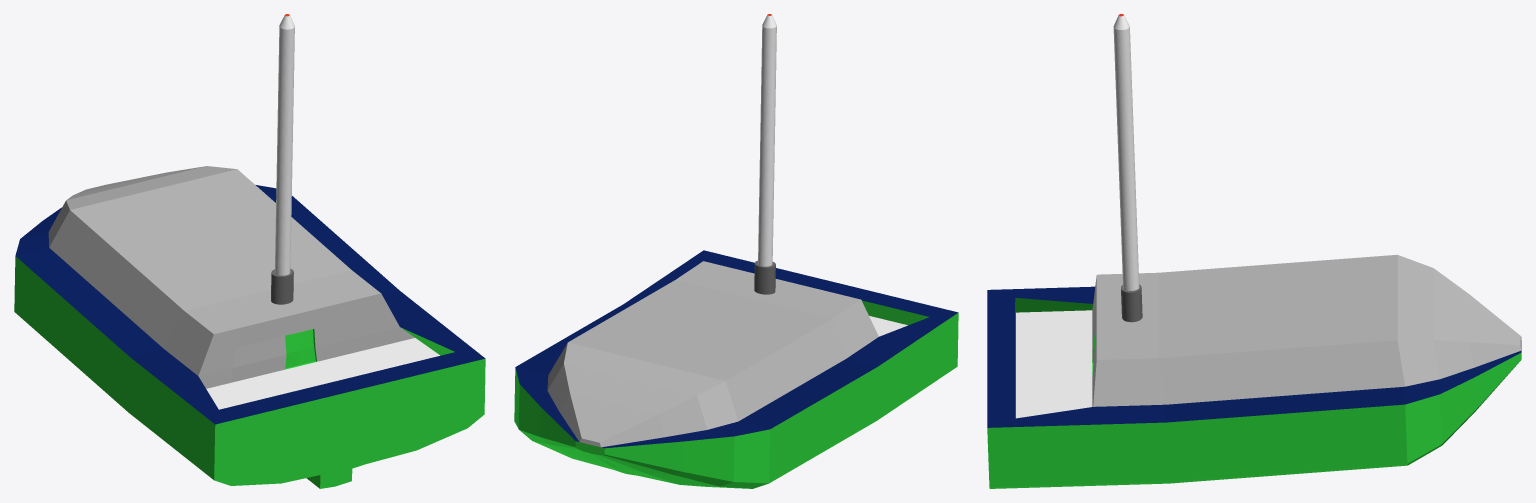
File: barquinho_grande_verde.glb
3 renders of one model, left to right at view 1: azimuth 30°, elevation 25°; view 2: azimuth 150°, elevation 25°; view 3: azimuth 270°, elevation 25°, orthographic. The views are drawn at different scales.
Parts seen in each view (by area): view 1: Cube.003; view 2: Cube.003; view 3: Cube.003.
Boxes of the visible parts, box(x1,y1,x2,y2) form: Cube.003: box(14, 14, 485, 488); Cube.003: box(514, 14, 958, 488); Cube.003: box(987, 14, 1521, 488).
Bounding box in the file's own units: 3.31 × 5.1 × 5.42.
